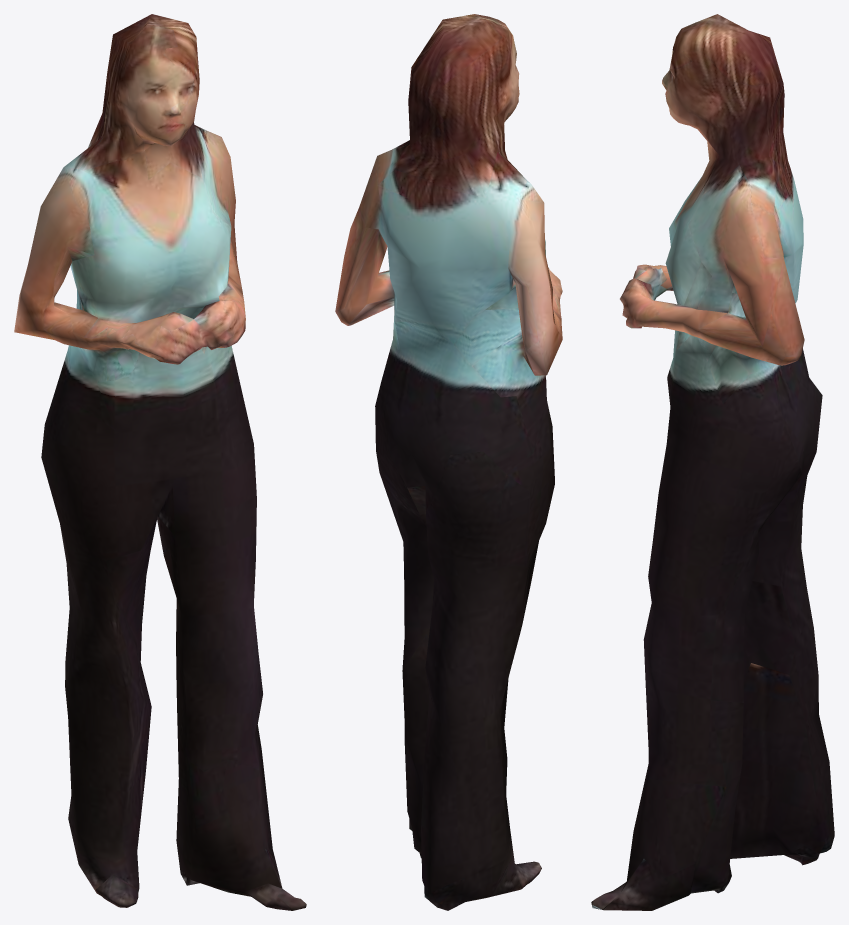
File: casual2.obj
3 views of the same model, side by side, from view 1: azimuth 30°, elevation 25°; view 2: azimuth 150°, elevation 25°; view 3: azimuth 270°, elevation 25° (orthographic).
Visible parts, largest first — view 1: lwpg0042; view 2: lwpg0042; view 3: lwpg0042.
Part boxes in pixels (x1=…): lwpg0042: x1=14, y1=14, x2=306, y2=910; lwpg0042: x1=335, y1=14, x2=562, y2=910; lwpg0042: x1=591, y1=14, x2=834, y2=910.
Bounding box in the file's own units: 0.4281 × 1.66 × 0.4304.
Materials: 1 (1 with a texture image).
